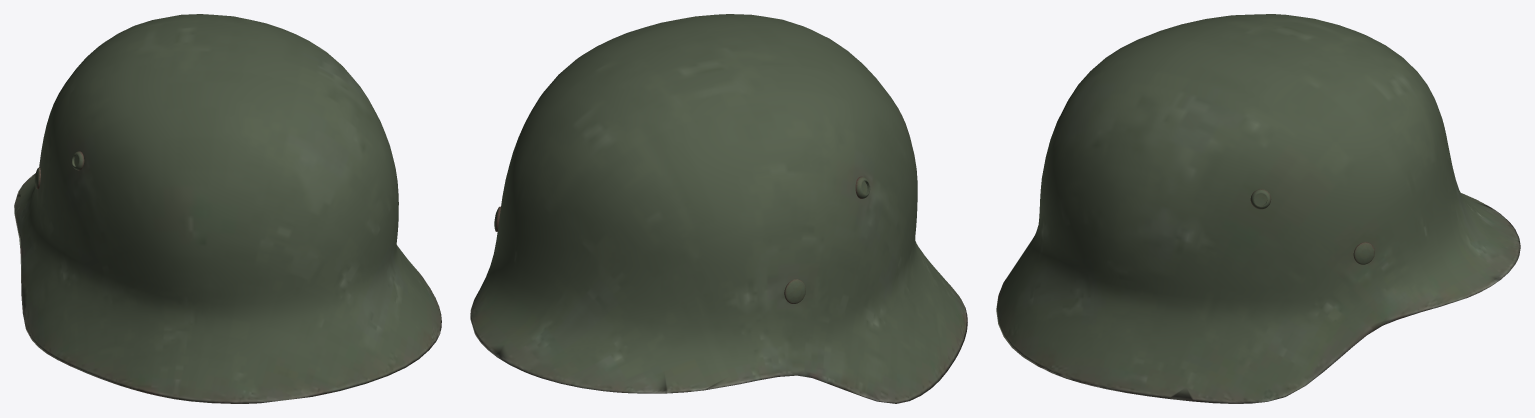
Rendered from helmet1.glb.
3 renders of one model, left to right at view 1: azimuth 30°, elevation 25°; view 2: azimuth 150°, elevation 25°; view 3: azimuth 270°, elevation 25°, orthographic. The views are drawn at different scales.
Parts seen in each view (by area): view 1: model_0.004; view 2: model_0.004, Circle.005; view 3: model_0.004.
Boxes of the visible parts, box(x1,y1,x2,y2) form: model_0.004: box(14, 14, 441, 403); model_0.004: box(470, 14, 967, 403); Circle.005: box(784, 279, 805, 303); model_0.004: box(996, 14, 1520, 403).
Bounding box in the file's own units: 8.44 × 5.71 × 9.98.
2 materials, 2 textured.
